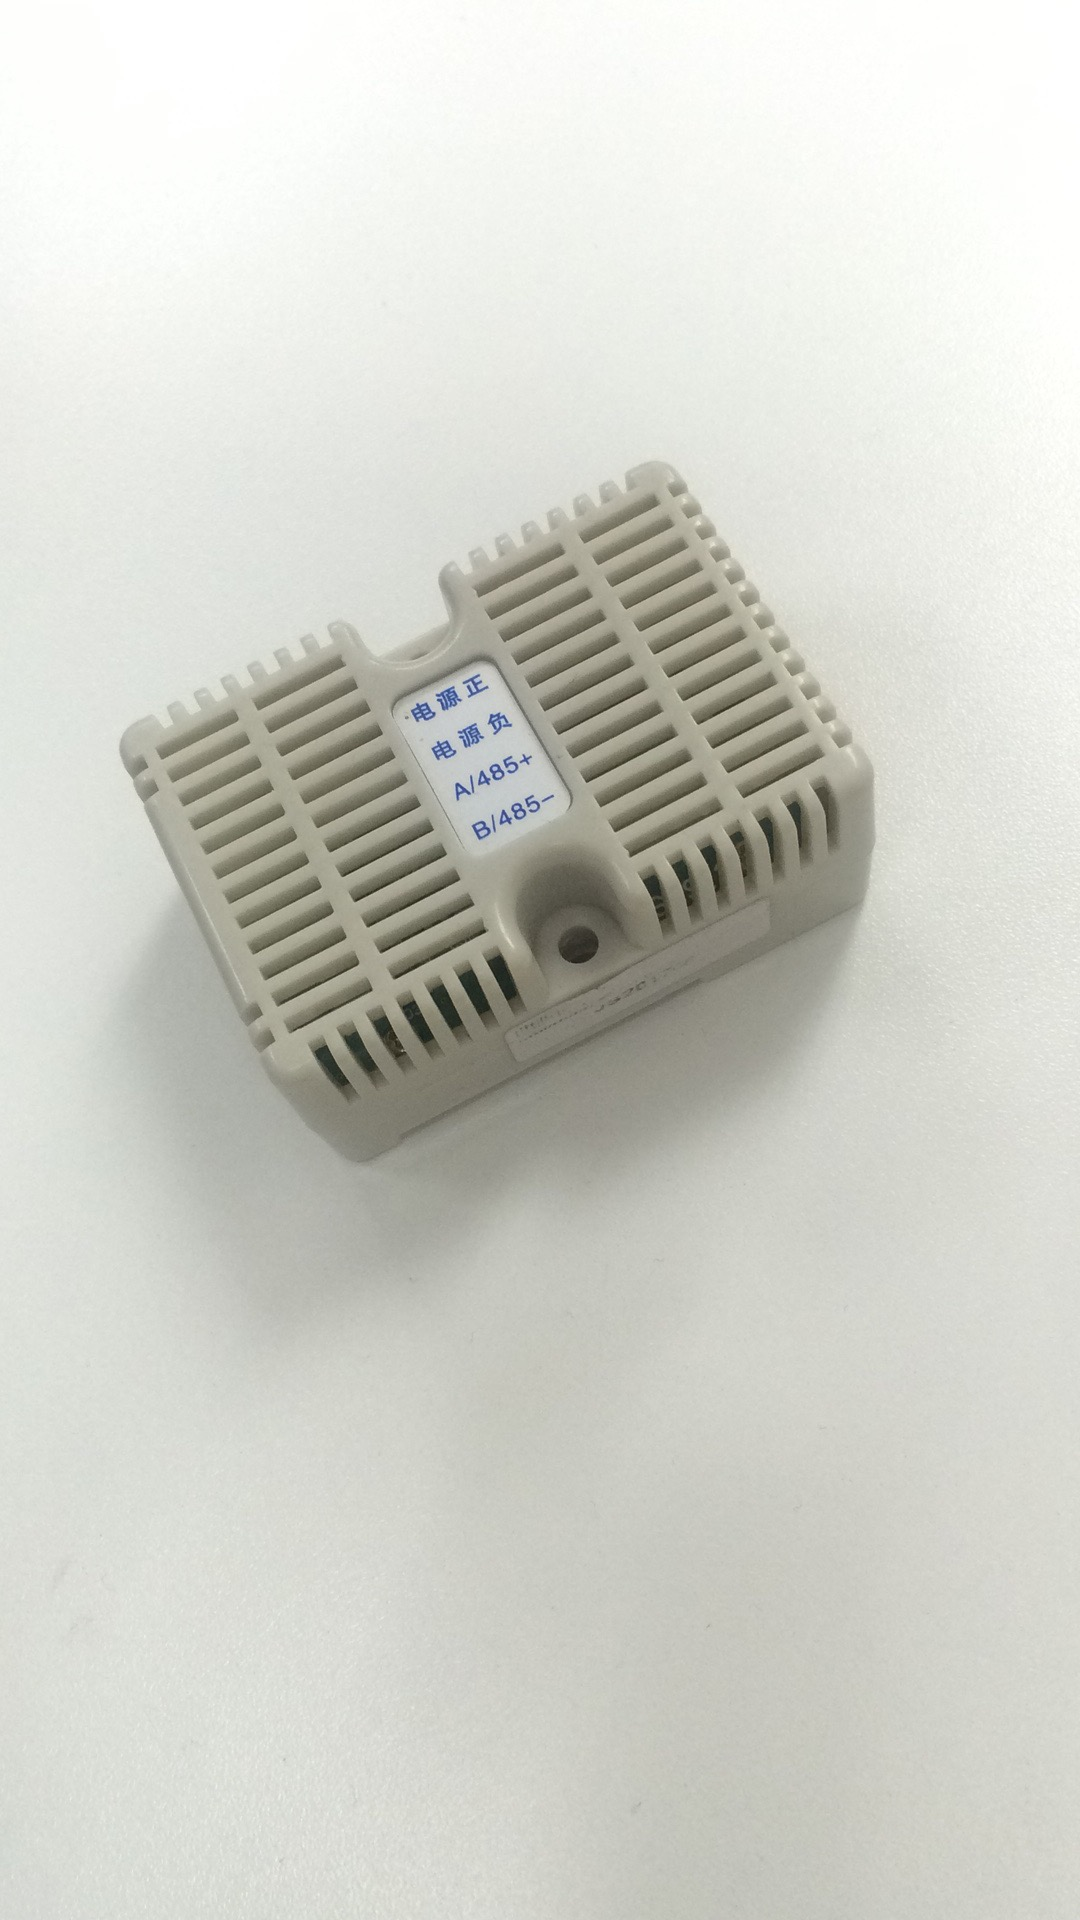temperature: (98, 444, 945, 1184)
